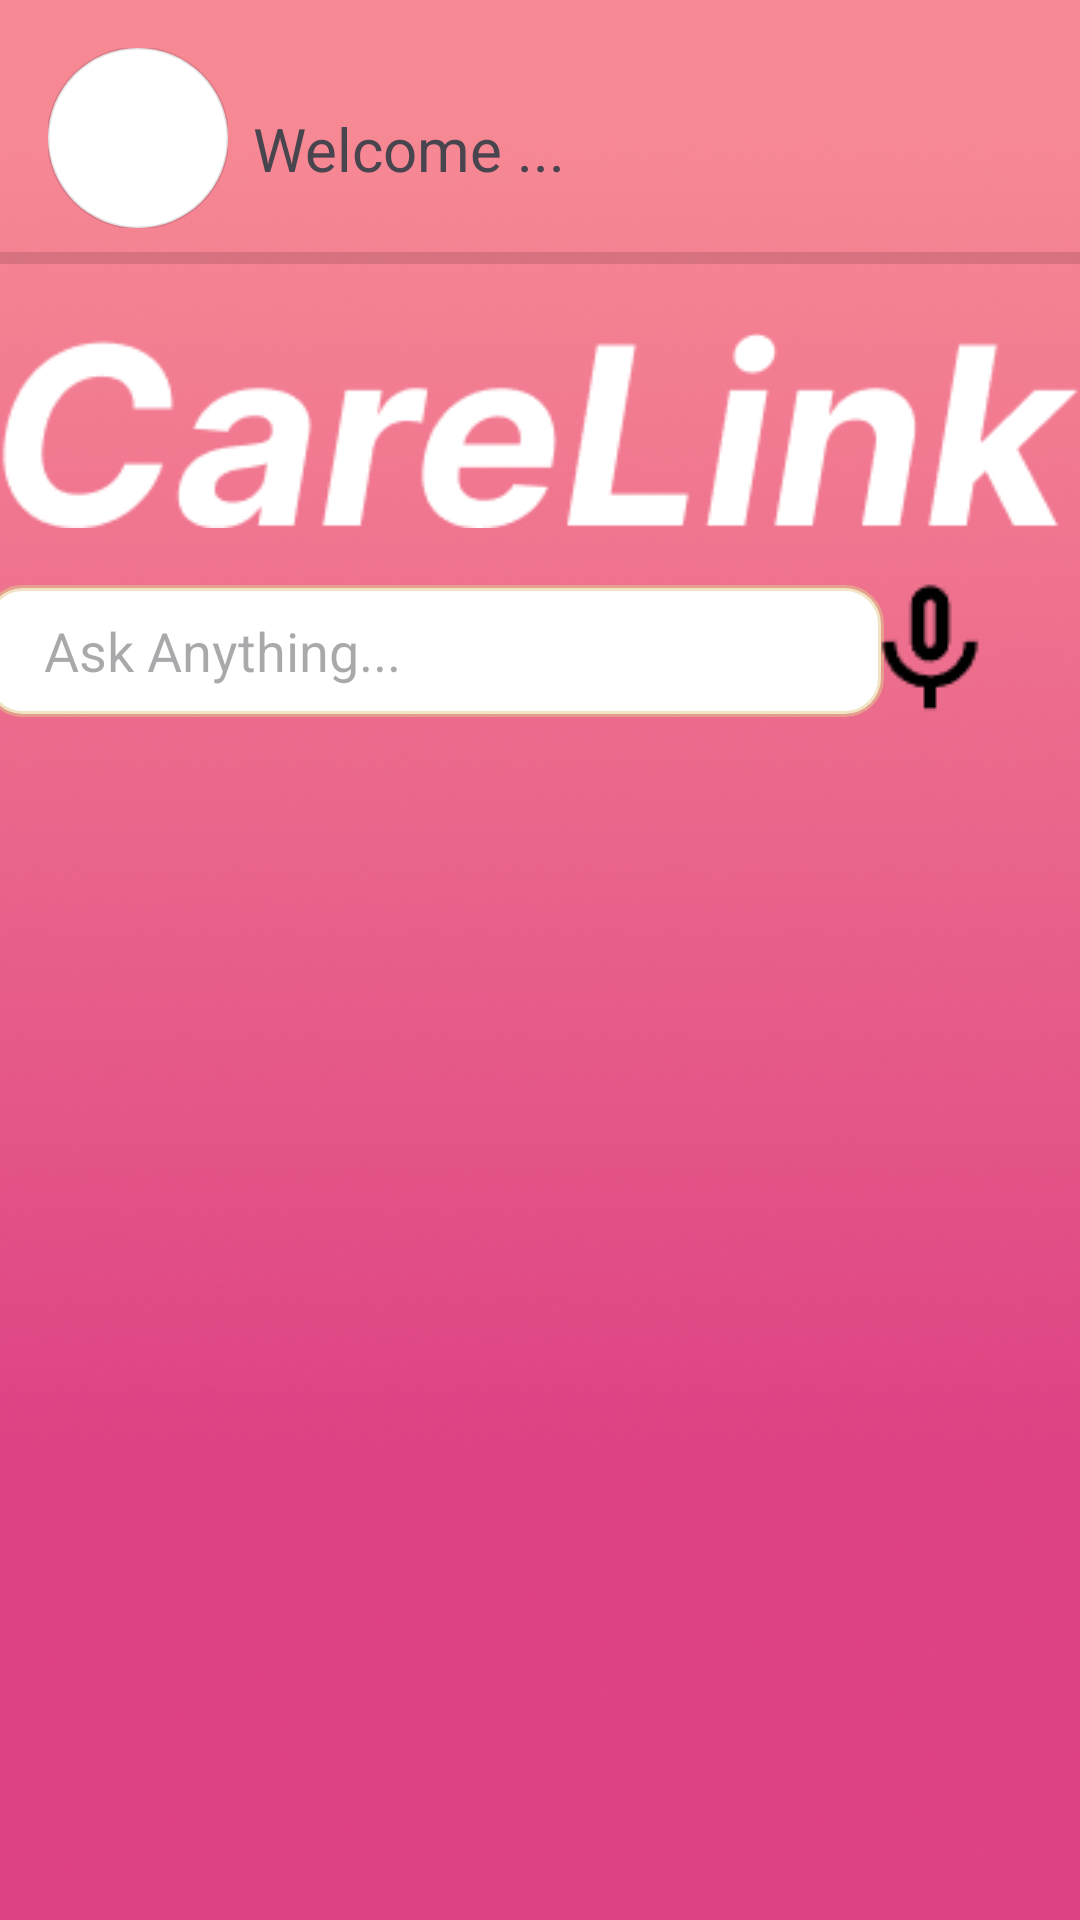

Named icons in this screenshot (1080px×1920px) and their bounding boxes, (x1, y1, x2, y2):
mic: (858, 584, 979, 714)
